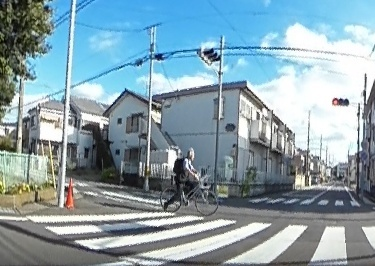person: (171, 147, 198, 205)
